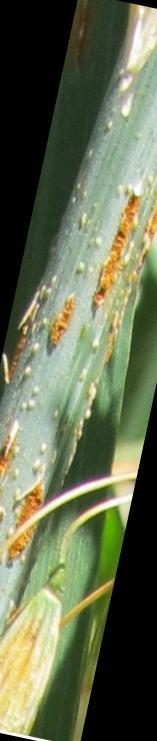Wheat: (38, 179, 157, 354), (0, 359, 66, 576)
